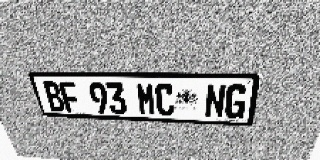3: (105, 82, 127, 114)
9: (87, 82, 110, 114)
B: (41, 81, 66, 112)
C: (155, 83, 175, 116)
F: (58, 81, 82, 113)
G: (224, 84, 249, 119)
M: (136, 83, 156, 115)
N: (204, 84, 227, 118)
